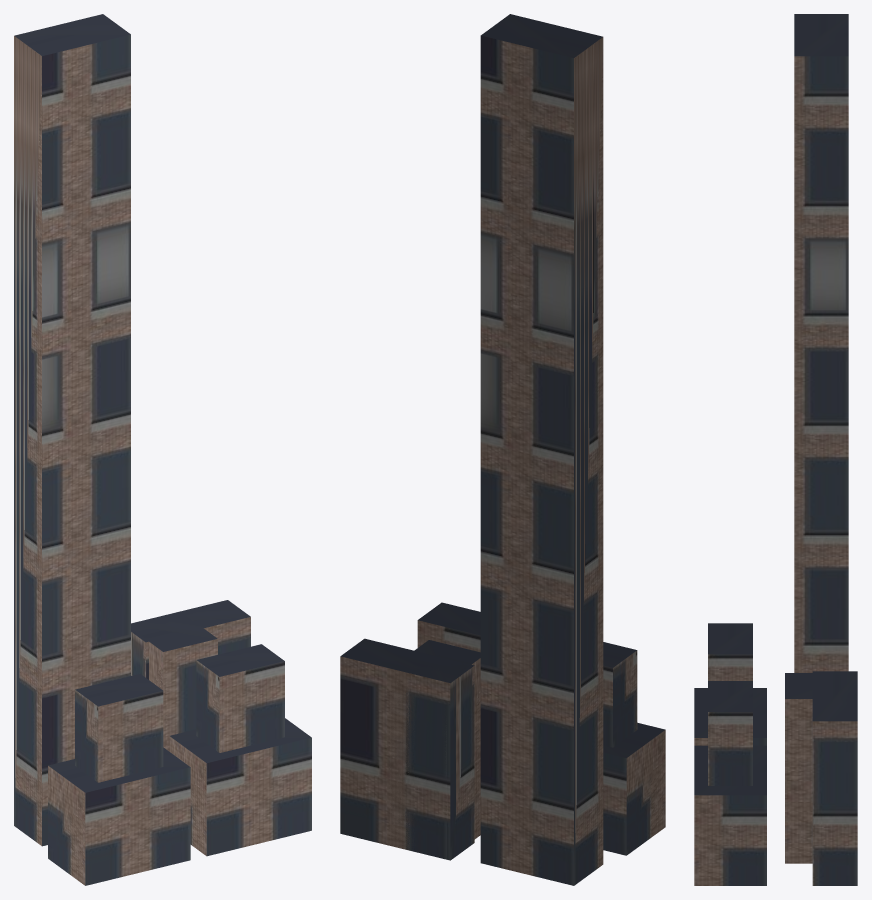
File: city_block_12345_6_16.glb
3 renders of one model, left to right at view 1: azimuth 30°, elevation 25°; view 2: azimuth 150°, elevation 25°; view 3: azimuth 270°, elevation 25°, orthographic. The views are drawn at different scales.
Parts seen in each view (by area): view 1: block_16; view 2: block_16; view 3: block_16.
Part boxes in pixels (box(x1,y1,x2,y2)): block_16: box(14, 14, 311, 885); block_16: box(340, 14, 665, 885); block_16: box(694, 14, 857, 885).
Bounding box in the file's own units: 4.2 × 14 × 2.7.
Materials: 4 (4 with a texture image).
